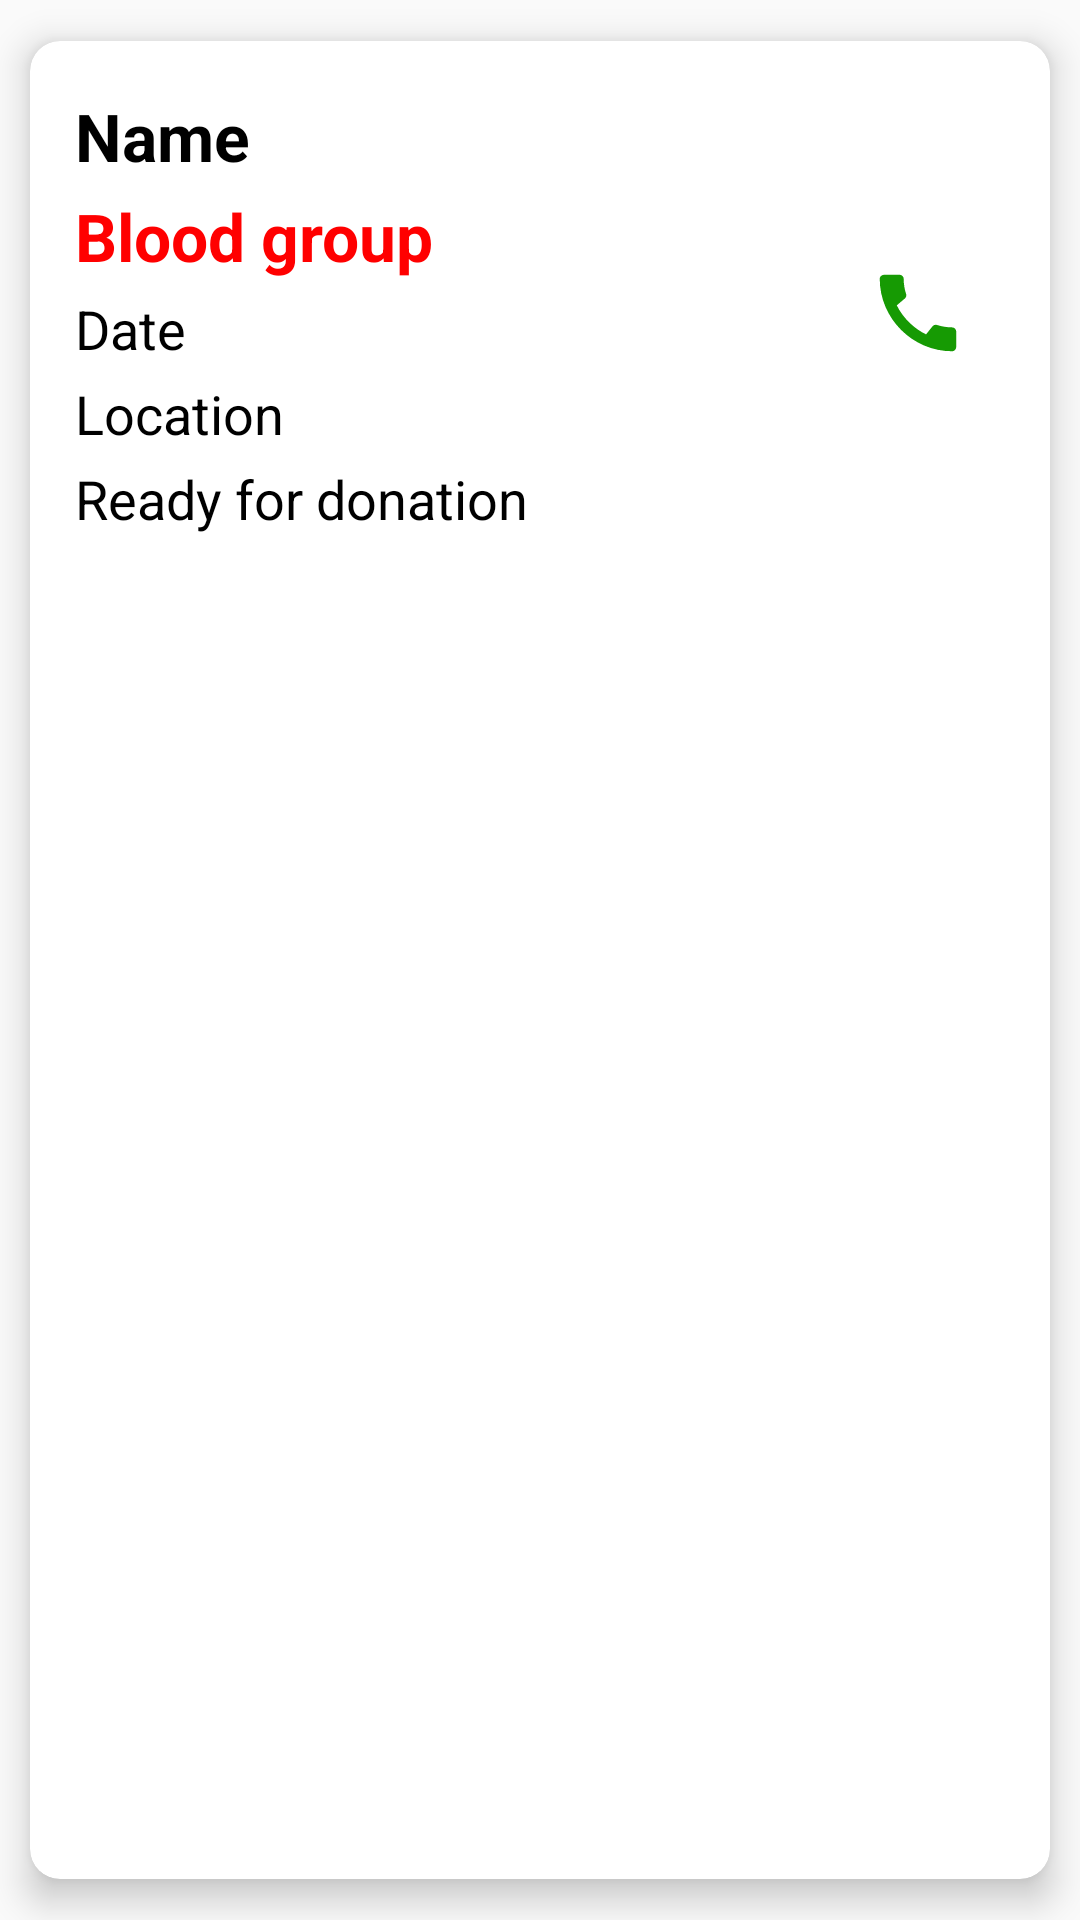

Icons on this 1080px x 1920px Android screen, each with its box as [left=x1, top=y1, right=x2, bottom=y2]:
call: [left=879, top=274, right=957, bottom=352]
